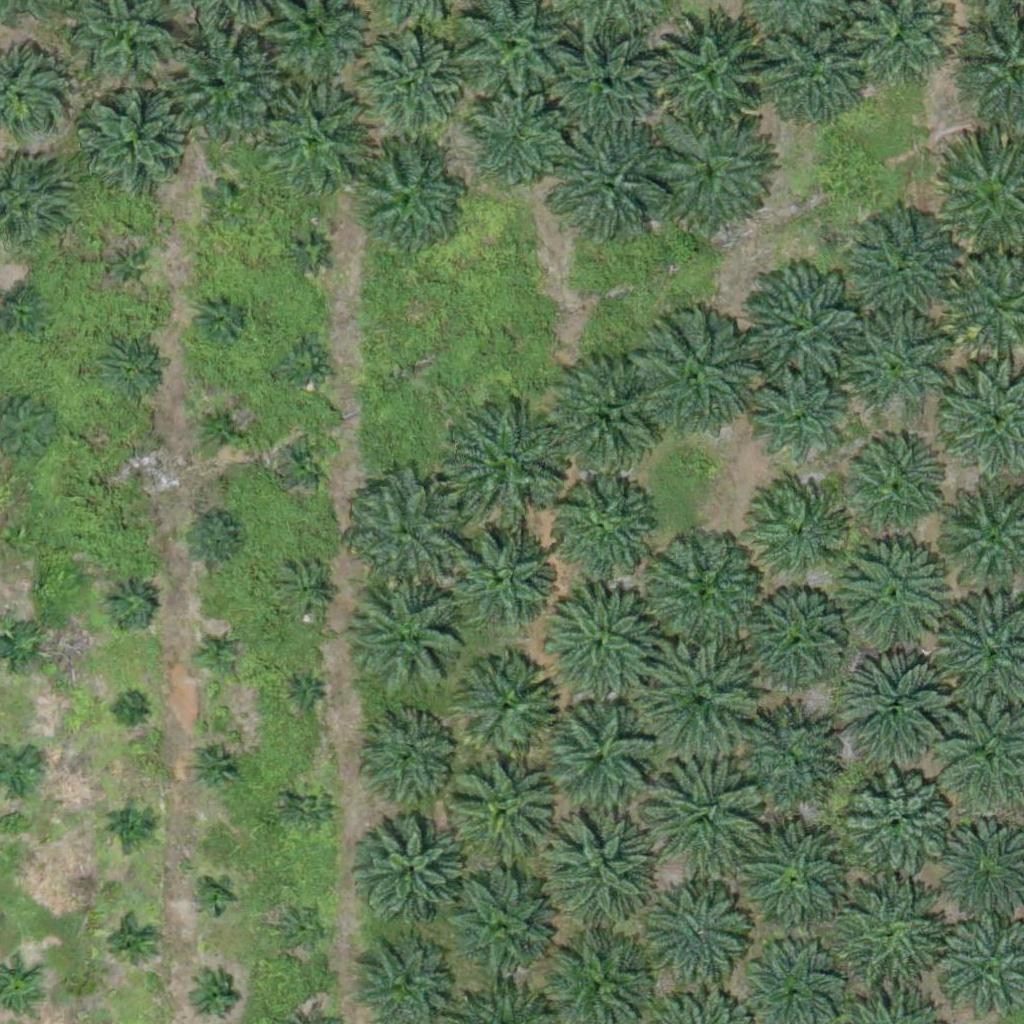Kelapa_Sawit: (159, 34, 284, 160), (547, 122, 672, 248), (646, 7, 771, 133), (650, 111, 775, 237), (737, 265, 862, 391), (631, 318, 756, 444), (448, 403, 573, 529), (638, 636, 763, 762), (640, 526, 765, 652), (826, 877, 951, 1003), (535, 804, 660, 930), (642, 752, 767, 878), (348, 23, 461, 137), (461, 85, 574, 199), (550, 357, 663, 471), (80, 90, 193, 203), (352, 142, 465, 255), (753, 15, 866, 128), (834, 533, 947, 646), (540, 584, 653, 697), (539, 701, 652, 814), (835, 655, 947, 769), (446, 873, 558, 987), (449, 756, 561, 870), (259, 90, 371, 203), (545, 30, 657, 143), (349, 476, 461, 589), (358, 582, 470, 695), (843, 768, 955, 881), (738, 822, 850, 935), (858, 216, 958, 317), (846, 314, 946, 415), (842, 435, 942, 536), (748, 367, 848, 468), (451, 526, 551, 627), (457, 654, 557, 755), (653, 890, 753, 991), (746, 482, 846, 582), (744, 591, 844, 691), (729, 714, 829, 814), (550, 475, 650, 575), (362, 820, 462, 920), (367, 716, 454, 804), (182, 508, 245, 571), (100, 339, 162, 402), (104, 917, 154, 968), (188, 971, 238, 1022), (281, 565, 331, 616), (104, 578, 154, 629), (197, 400, 247, 451), (286, 783, 336, 833), (106, 800, 156, 850), (195, 291, 245, 341), (281, 438, 331, 488), (284, 228, 334, 278), (280, 339, 330, 389), (100, 243, 150, 293), (203, 174, 253, 224), (192, 628, 242, 678), (275, 902, 325, 952), (191, 742, 241, 792), (4, 521, 42, 559), (195, 877, 233, 915), (2, 297, 40, 334), (127, 454, 152, 479), (293, 683, 318, 708), (116, 697, 141, 722)
